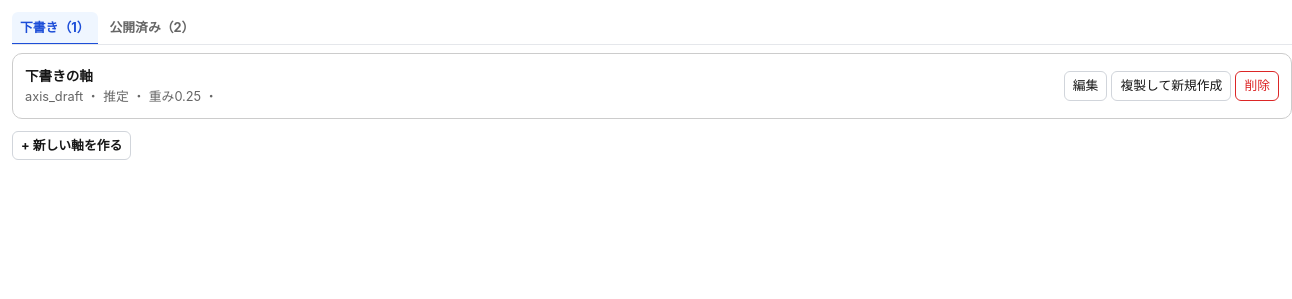
Test: 非公開に戻す › 戻している間は、その軸の「非公開に戻す」と「調整する」を押せない
What coordinates should you click on to do the following:
click the tab "公開済み（2）"
I would click on:
 (152, 29)
Its box is [102,12,202,45].
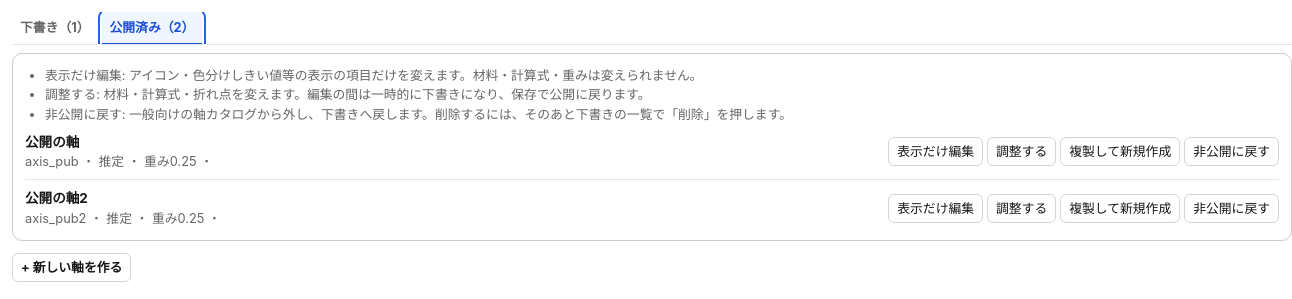
What coordinates should you click on to do the following:
click the 1st button "非公開に戻す"
I would click on:
 (1232, 152)
Its box is [1184,137,1279,166].
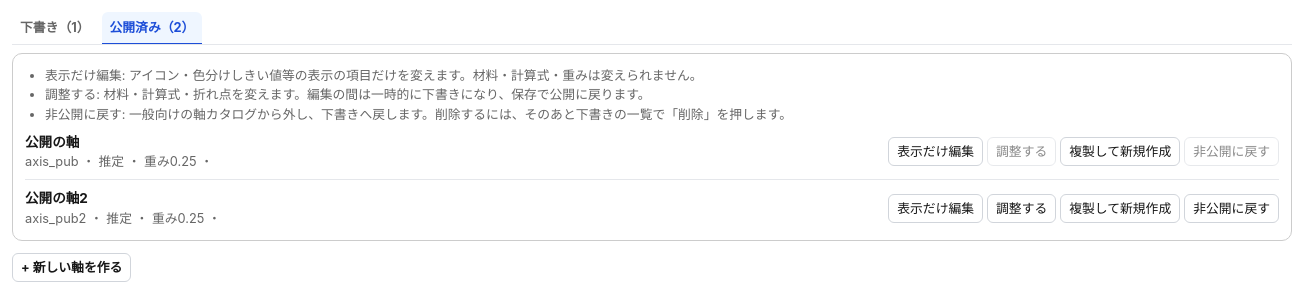
Now the 1st button "非公開に戻す" is disabled, box [1184,137,1279,166]
Now the 1st button "調整する" is disabled, box [987,137,1056,166]
